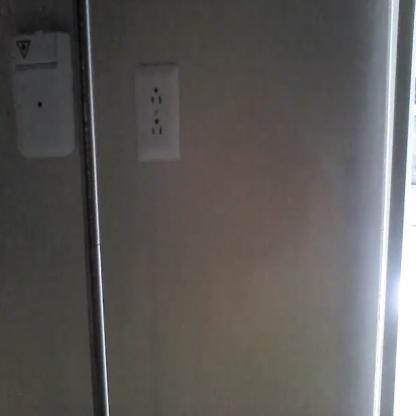OUTLET: (136, 65, 179, 161)
